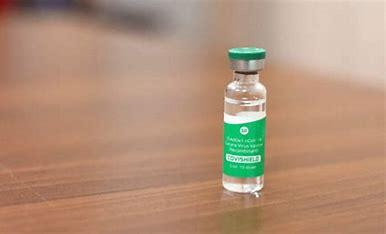Syringe: (216, 40, 279, 202)
